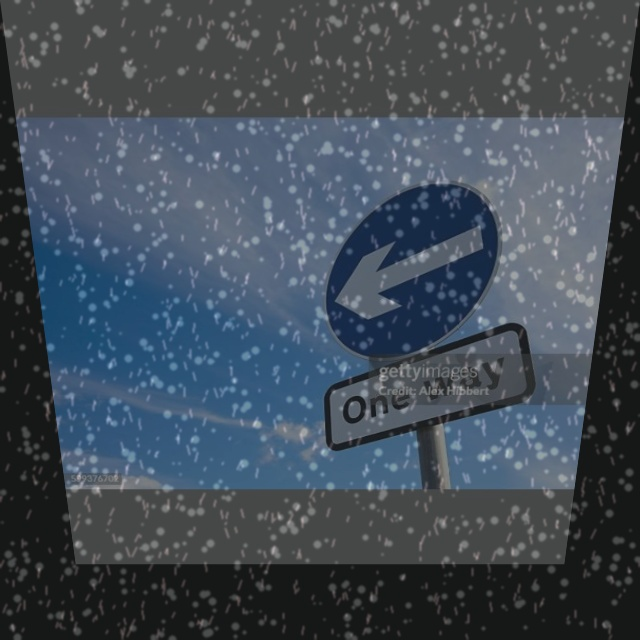Compulsory_Turn_Left: (316, 177, 506, 355)
